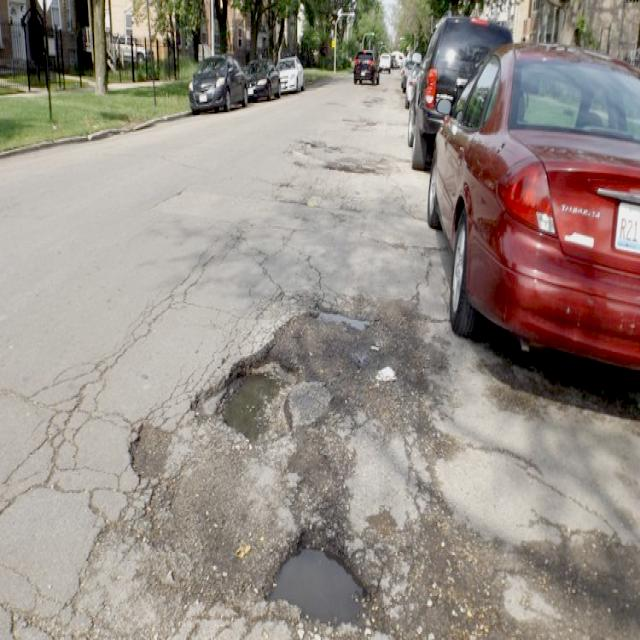Pothole: (108, 305, 398, 640)
